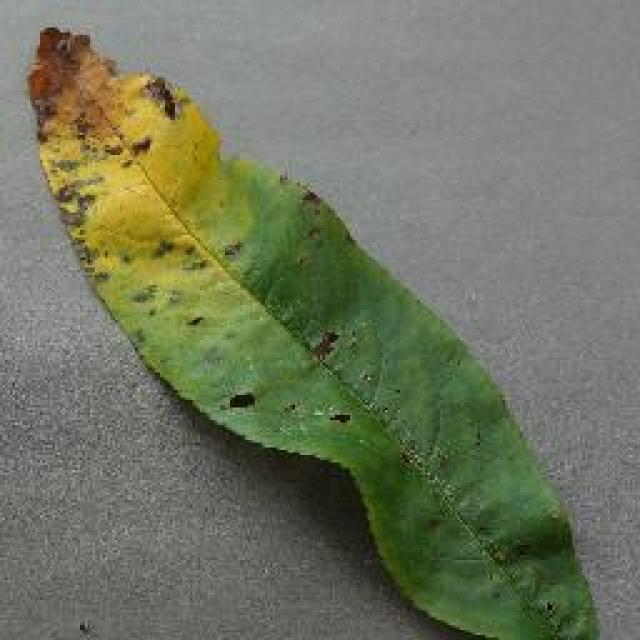Peach_Bacterial_Spot: (26, 35, 402, 435)
